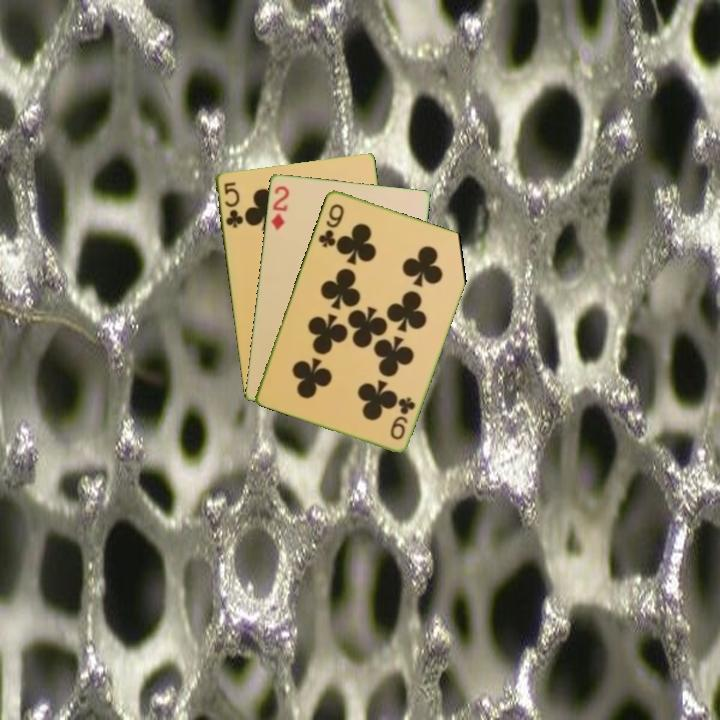2d: (268, 182, 292, 233)
5c: (220, 178, 246, 231)
9c: (314, 200, 347, 250), (386, 393, 418, 442)
